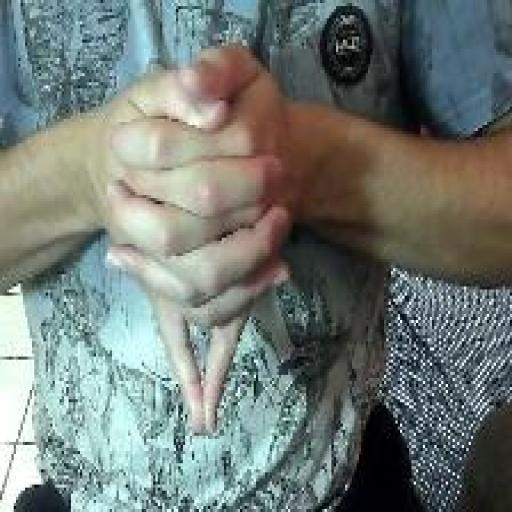Tatsu -dragon-: (101, 35, 297, 447)
